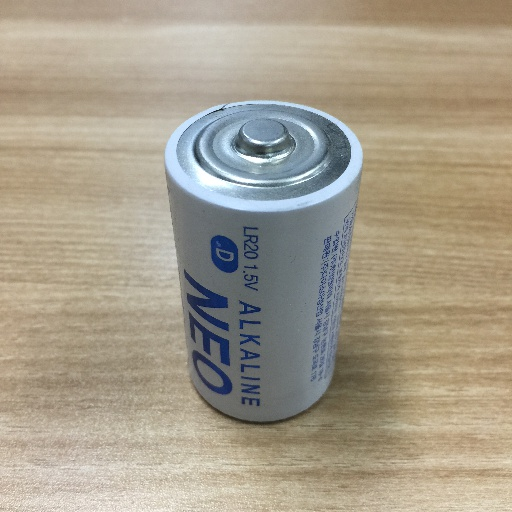Battery_0: (150, 83, 367, 424)
